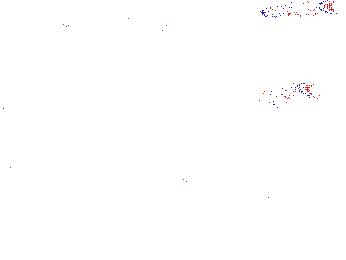glassfish: (267, 115, 346, 151)
red belly glassfish: (48, 9, 74, 36)
redtail glassfish: (258, 79, 315, 111), (258, 1, 336, 21)
